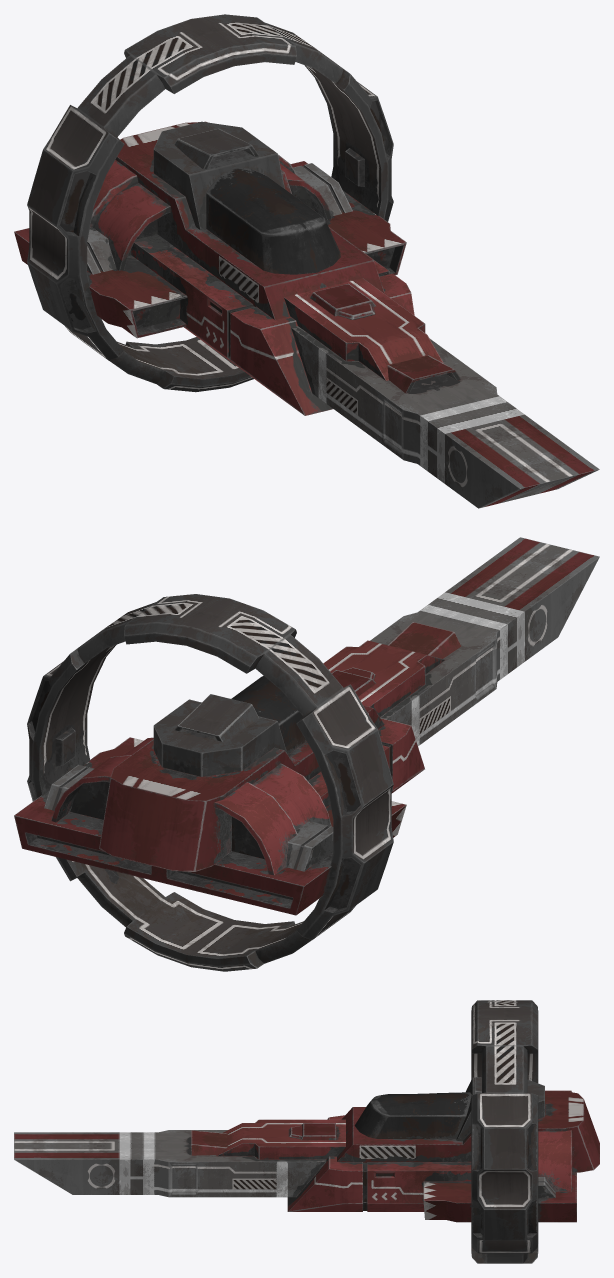
The model's file is zenith.glb.
3 renders of one model, top to bottom at view 1: azimuth 30°, elevation 25°; view 2: azimuth 150°, elevation 25°; view 3: azimuth 270°, elevation 25°, orthographic. The views are drawn at different scales.
Visible parts, largest first — view 1: Zenith_Cube.016; view 2: Zenith_Cube.016; view 3: Zenith_Cube.016.
Boxes of the visible parts, x1,y1,x2,y2 form: Zenith_Cube.016: (14, 14, 599, 508); Zenith_Cube.016: (14, 537, 599, 971); Zenith_Cube.016: (14, 1000, 599, 1263).
Bounding box in the file's own units: 5.63 × 5.43 × 12.07.
1 material, 1 textured.
